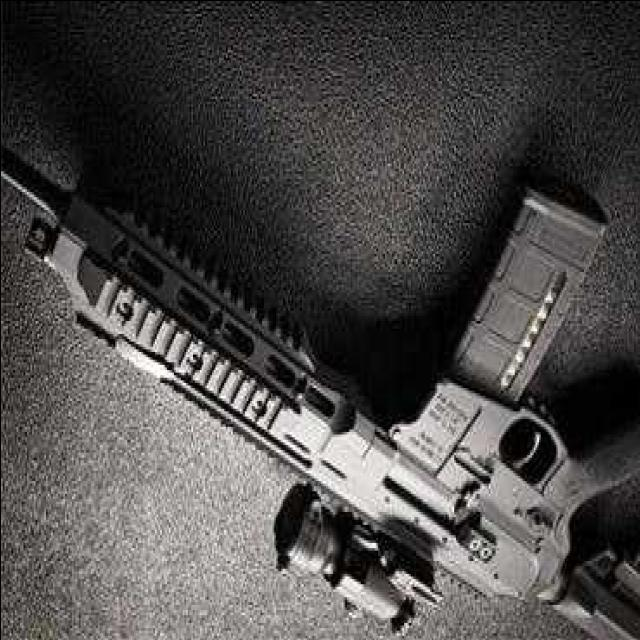heavyweapon: (1, 120, 640, 640)
